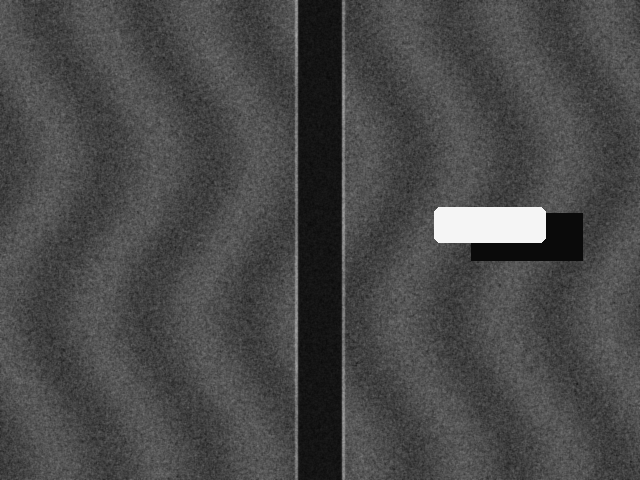Wood Debris: (434, 207, 545, 242)
